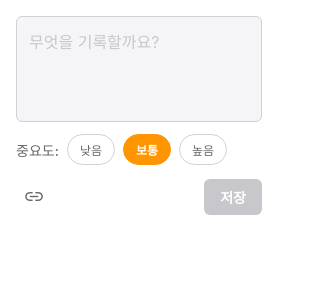
NoteInput › should toggle URL input visibility
Click the element with test id "toggle-url-button" at {"x": 34, "y": 196}, box x1=24 y1=186 x2=44 y2=207
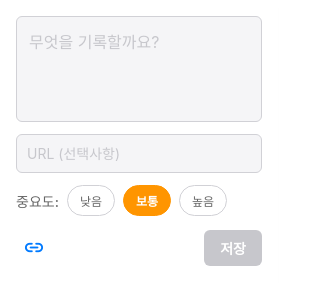
Now the field with test id "note-input-url" is shown, box x1=16 y1=134 x2=262 y2=173
Click the element with test id "toggle-url-button" at {"x": 34, "y": 248}, box x1=24 y1=237 x2=44 y2=258
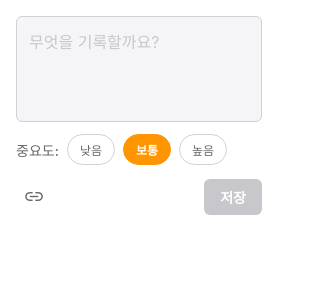
Now the field with test id "note-input-url" is gone
